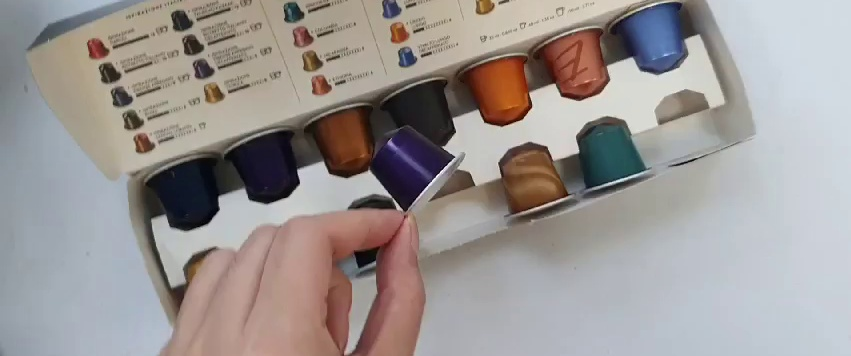capsule_11: (368, 128, 469, 220)
